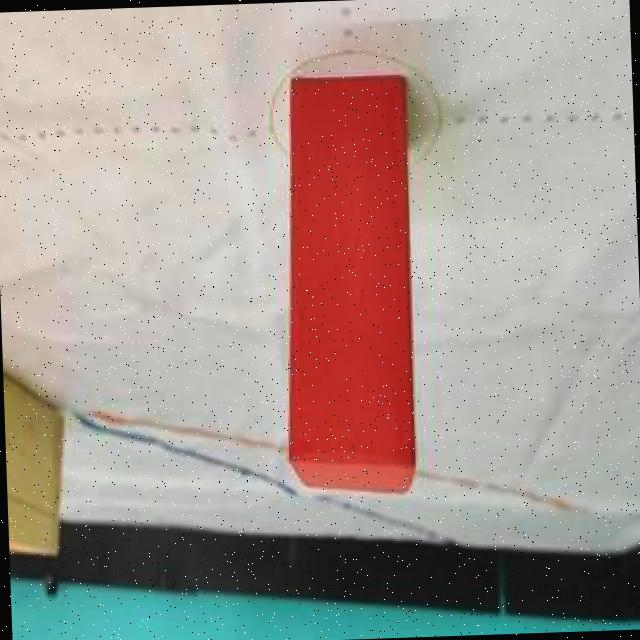redbox: (274, 71, 422, 502)
